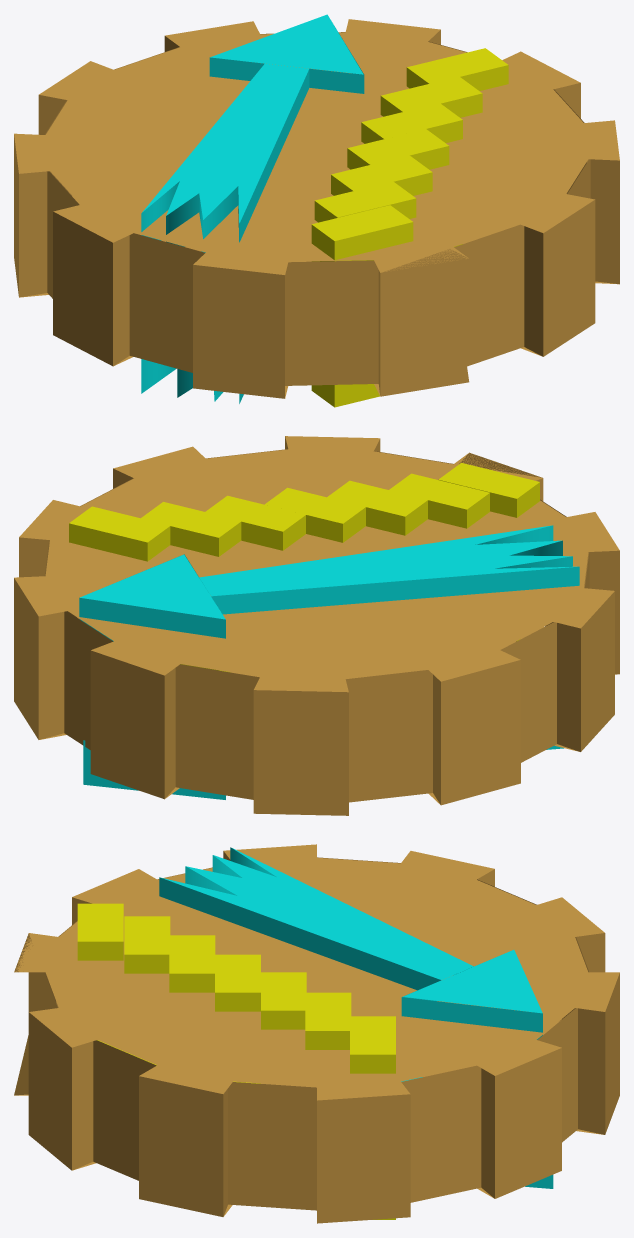
File: Level_UP (1).fbx
The picture shows the model from 3 angles, top to bottom: view 1: azimuth 30°, elevation 25°; view 2: azimuth 150°, elevation 25°; view 3: azimuth 270°, elevation 25°; orthographic projection.
Parts seen in each view (by area): view 1: pCylinder1, Arrow, Staris, Staris1, Arrow1; view 2: pCylinder1, Arrow, Staris, Arrow1; view 3: pCylinder1, Arrow, Staris.
Part boxes in pixels (x1,y1,x2,y2): pCylinder1: [14, 19, 619, 398]; Arrow: [141, 14, 364, 252]; Staris: [311, 48, 508, 261]; Staris1: [311, 244, 462, 407]; Arrow1: [141, 359, 243, 403]; pCylinder1: [14, 436, 619, 815]; Arrow: [79, 525, 579, 641]; Staris: [69, 463, 539, 561]; Arrow1: [83, 740, 563, 799]; pCylinder1: [14, 844, 619, 1223]; Arrow: [159, 847, 542, 1039]; Staris: [77, 903, 395, 1073].
Bounding box in the file's own units: 4.46 × 1.46 × 4.46.
